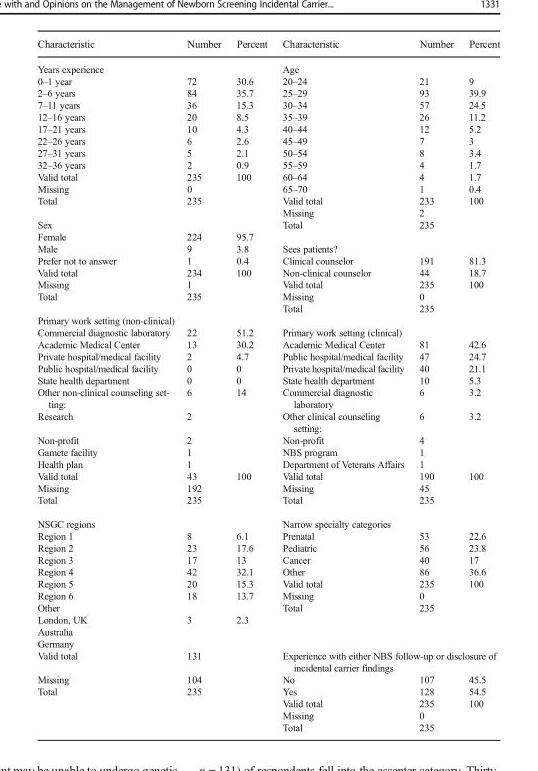table: (36, 37, 499, 732)
table column: (36, 37, 177, 732), (274, 37, 411, 732), (177, 37, 228, 732), (411, 37, 460, 732), (228, 37, 274, 732), (460, 37, 499, 732)
table column header: (36, 37, 499, 56)
table projected row header: (36, 313, 499, 325)
table row: (36, 385, 499, 409), (36, 409, 499, 433), (36, 649, 499, 673), (36, 37, 499, 56), (36, 56, 499, 74), (36, 493, 499, 511), (36, 511, 499, 529), (36, 74, 499, 86), (36, 86, 499, 98), (36, 98, 499, 110), (36, 110, 499, 122), (36, 122, 499, 134), (36, 134, 499, 146), (36, 146, 499, 158), (36, 158, 499, 170), (36, 170, 499, 182), (36, 182, 499, 194), (36, 194, 499, 206), (36, 206, 499, 218), (36, 218, 499, 230), (36, 230, 499, 242), (36, 242, 499, 254), (36, 254, 499, 266), (36, 266, 499, 278), (36, 289, 499, 301), (36, 301, 499, 313), (36, 313, 499, 325), (36, 325, 499, 337), (36, 337, 499, 349), (36, 349, 499, 361), (36, 361, 499, 373), (36, 373, 499, 385), (36, 433, 499, 445), (36, 445, 499, 457), (36, 457, 499, 469), (36, 469, 499, 481), (36, 481, 499, 493), (36, 529, 499, 541), (36, 541, 499, 553), (36, 553, 499, 565), (36, 565, 499, 577), (36, 577, 499, 589), (36, 589, 499, 601), (36, 601, 499, 613), (36, 613, 499, 625), (36, 625, 499, 637), (36, 637, 499, 649), (36, 684, 499, 696), (36, 696, 499, 708), (36, 708, 499, 720), (36, 720, 499, 732), (36, 278, 499, 289), (36, 673, 499, 684)
table spanning cell: (36, 684, 177, 732), (274, 649, 499, 673), (36, 56, 274, 74), (36, 511, 274, 529), (274, 56, 499, 74), (274, 511, 499, 529), (36, 194, 177, 218), (36, 289, 177, 313), (36, 218, 274, 230), (274, 242, 499, 254), (274, 325, 499, 337), (177, 613, 228, 649), (228, 613, 274, 649)
